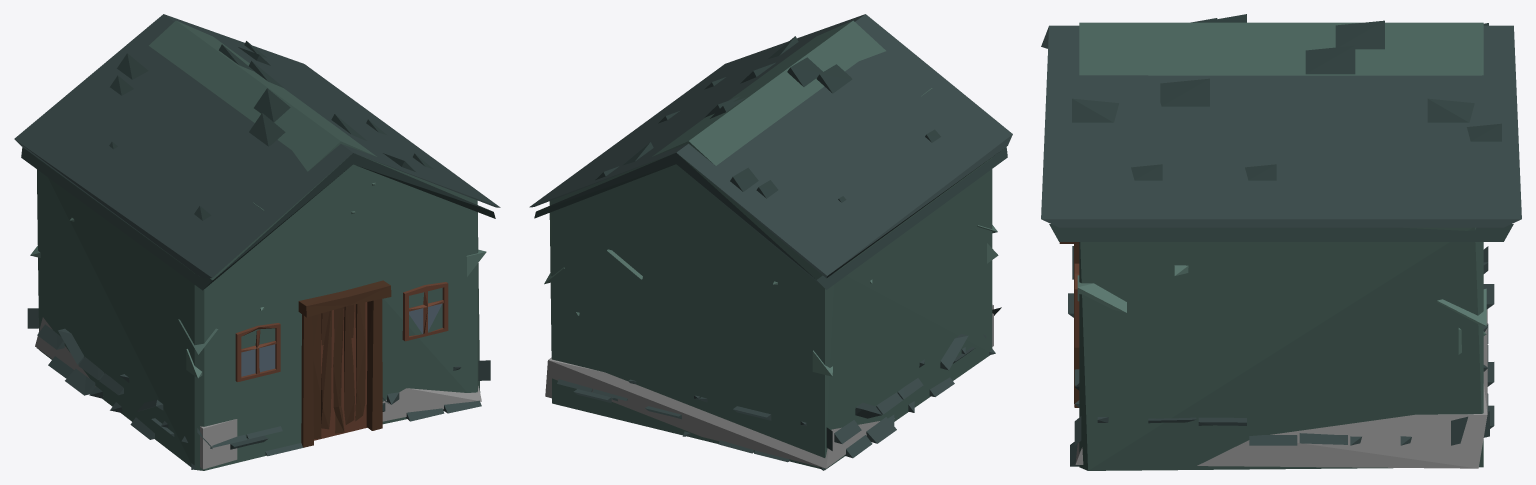
The model's file is 1Story_GableRoof_lod.glb.
3 views of the same model, side by side, from view 1: azimuth 30°, elevation 25°; view 2: azimuth 150°, elevation 25°; view 3: azimuth 270°, elevation 25° (orthographic). The views are drawn at different scales.
Visible parts, largest first — view 1: 1Story_GableRoof_Mat; view 2: 1Story_GableRoof_Mat; view 3: 1Story_GableRoof_Mat.
Boxes of the visible parts, x1,y1,x2,y2 form: 1Story_GableRoof_Mat: (14,14,500,470); 1Story_GableRoof_Mat: (529,14,1012,470); 1Story_GableRoof_Mat: (1041,14,1521,470).
Size of the model in its own units: 2.1 by 2.01 by 2.38.
